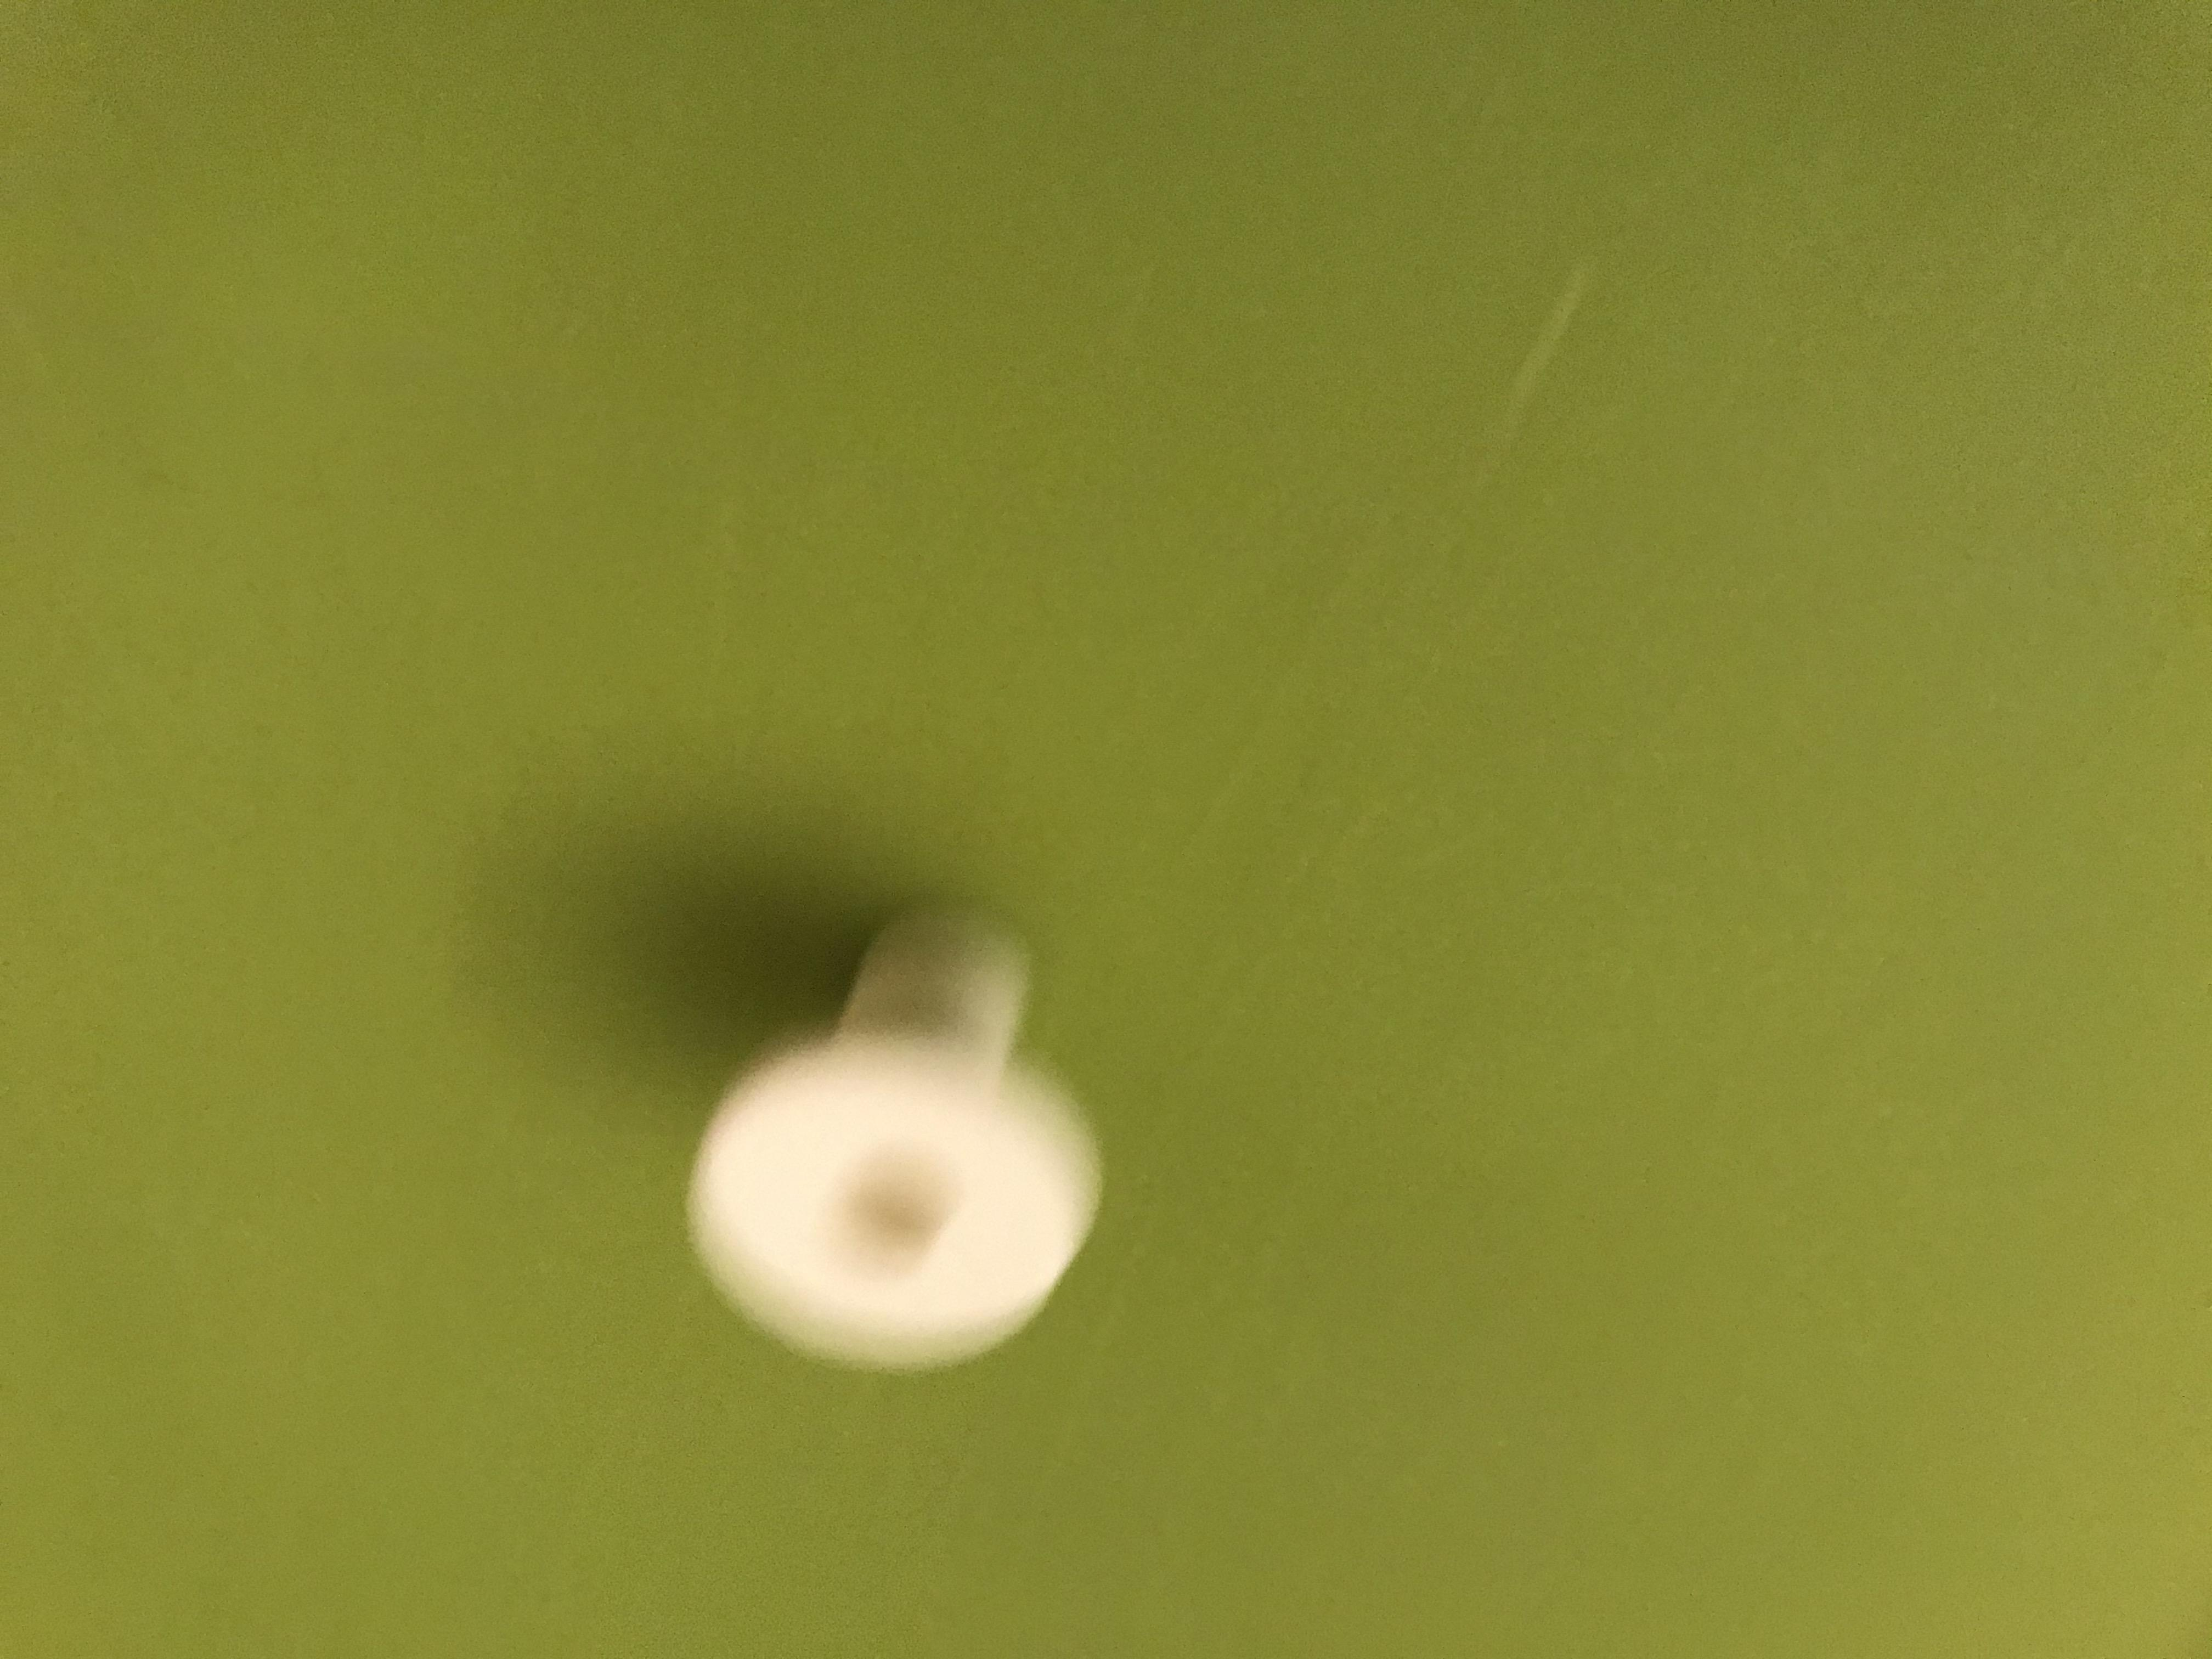White Cone: (665, 917, 1111, 1380)
